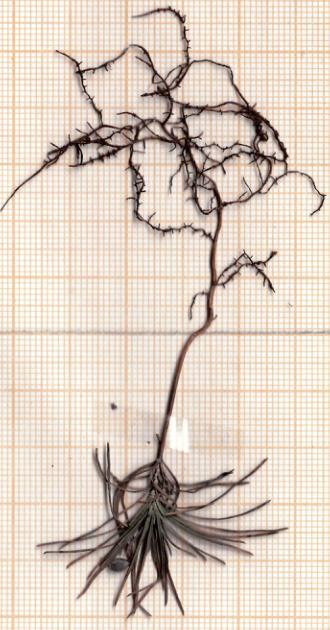flower: (32, 448, 292, 622)
root: (0, 4, 330, 326)
stem: (147, 326, 214, 456)
